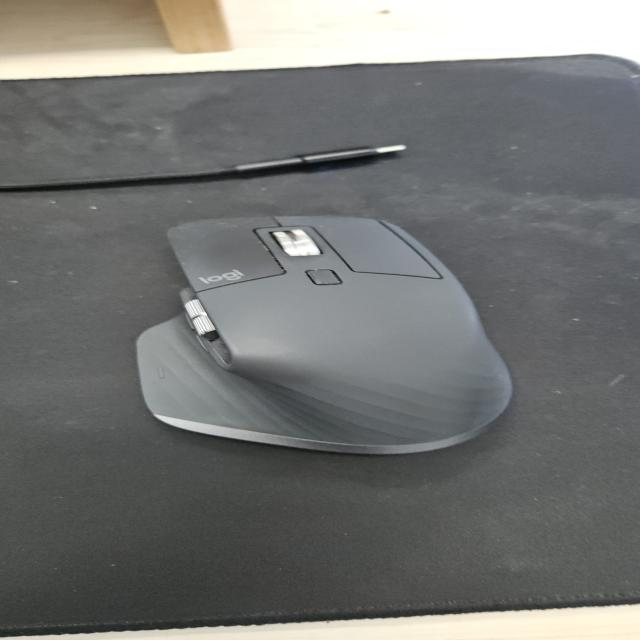Mouse: (132, 212, 517, 456)
